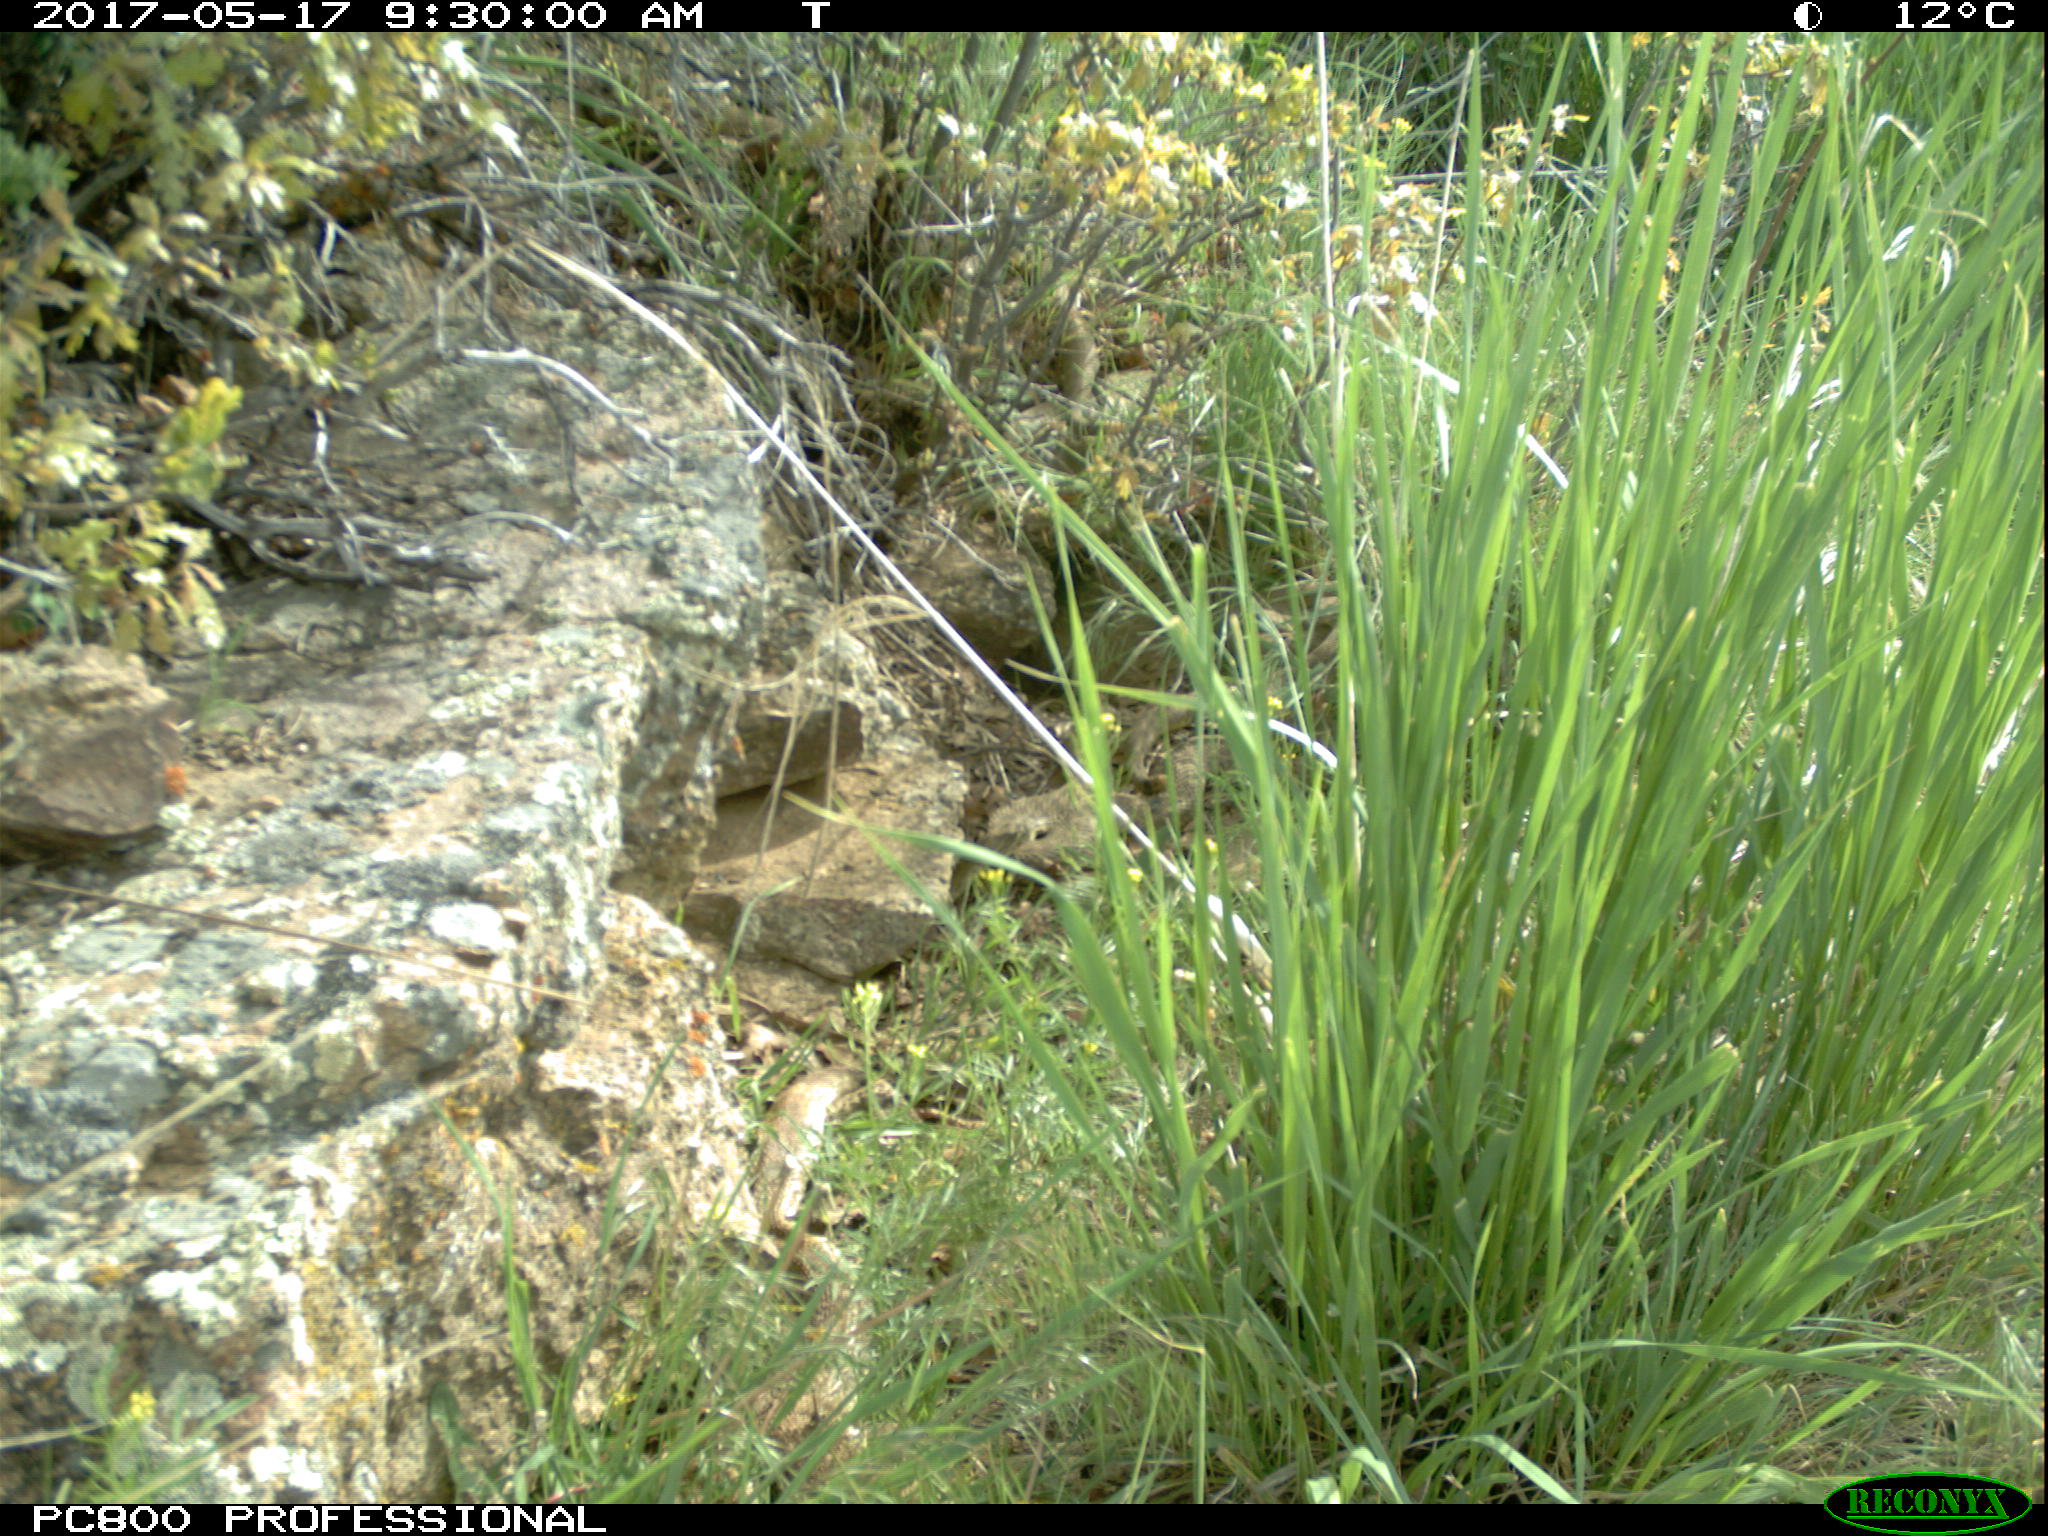snake: (761, 1062, 856, 1450)
